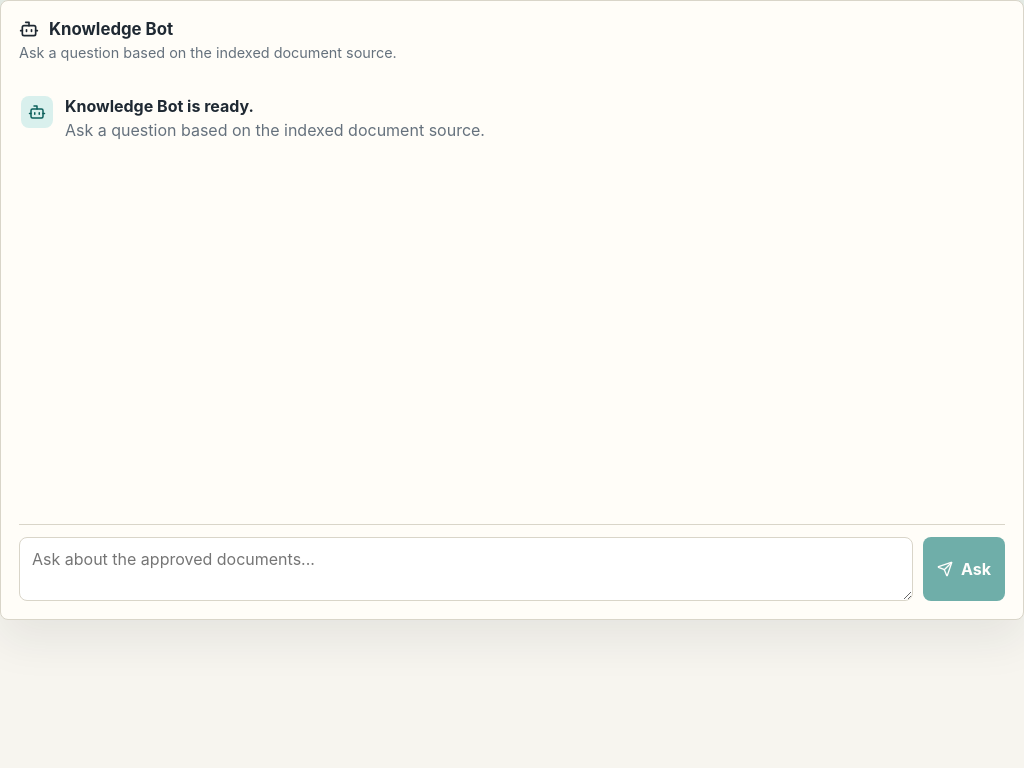
Scenario: Slack-style chat experience › shows the user question, inline processing, bot answer, and thread details
The image size is (1024, 768).
Later steps or results of the test are not shown.
Expected: the heading "Knowledge Bot" is shown, [19,19,173,39]
Type "What is e-invoicing?" into the text box named "Ask a question" at (466,569), box [19,537,913,601]
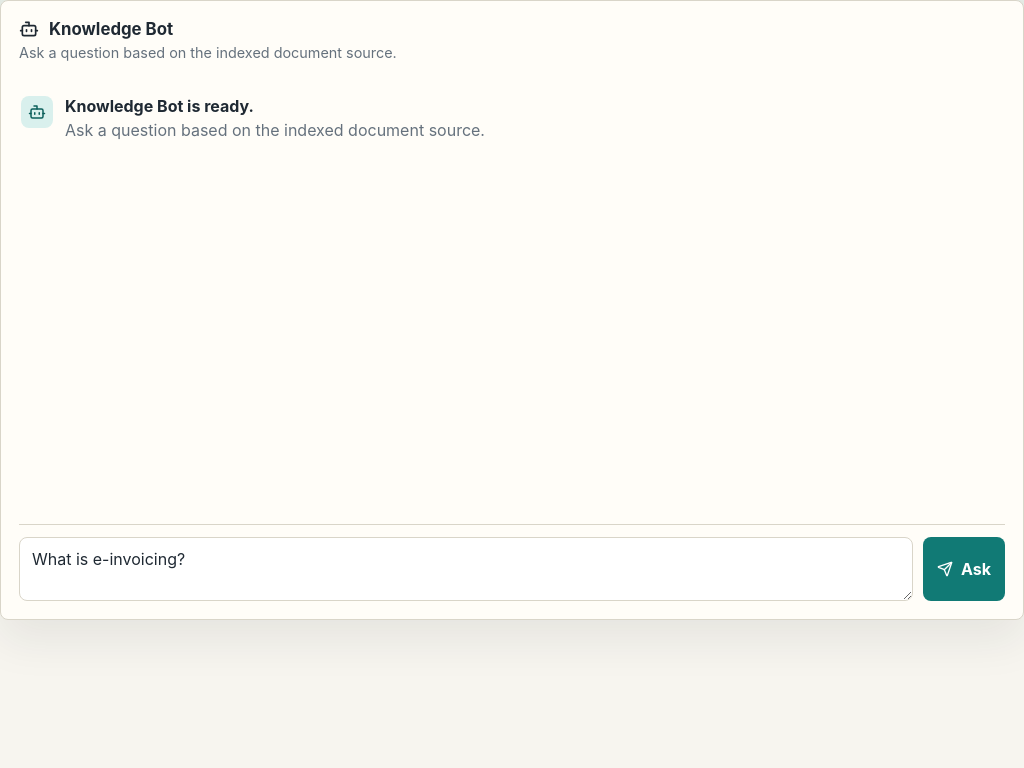
Click the button "Ask" at (964,569), box [923,537,1005,601]
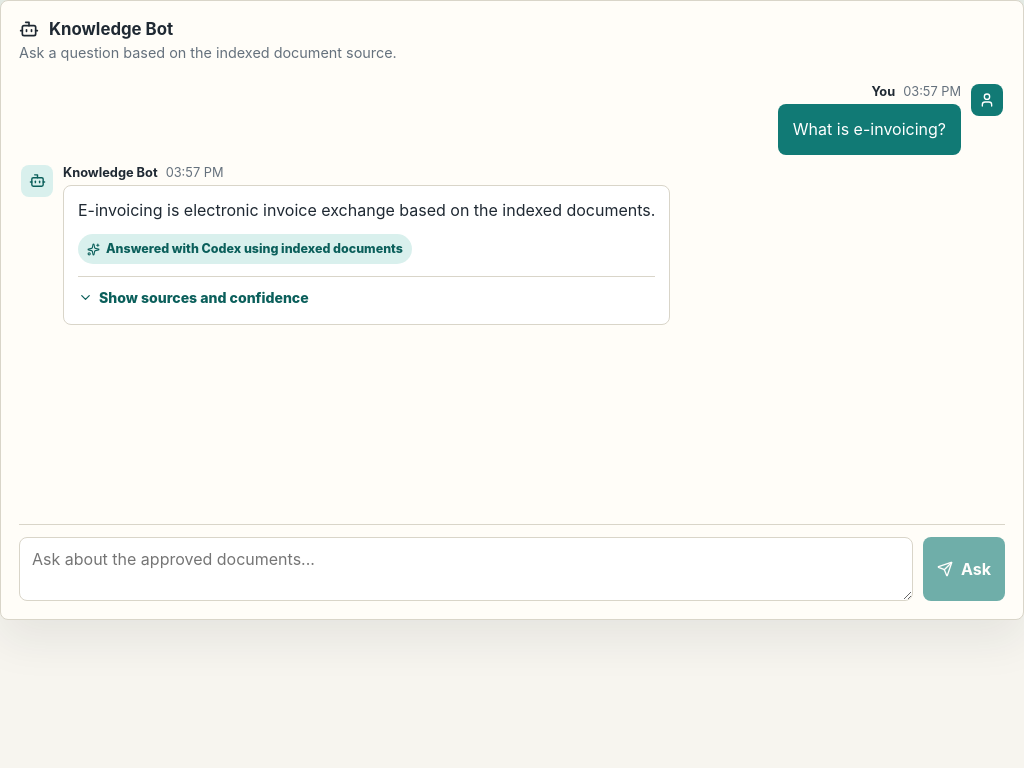
Expected: the text "What is e-invoicing?" is shown, [778,104,961,155]
Expected: the text "E-invoicing is electronic invoice exchange based on the indexed documents." is shown, [78,198,655,222]
Expected: the text "Answered with Codex using indexed documents" is shown, [78,234,412,264]
Click the heading "Show sources and confidence" at (193,298), box [78,287,309,309]
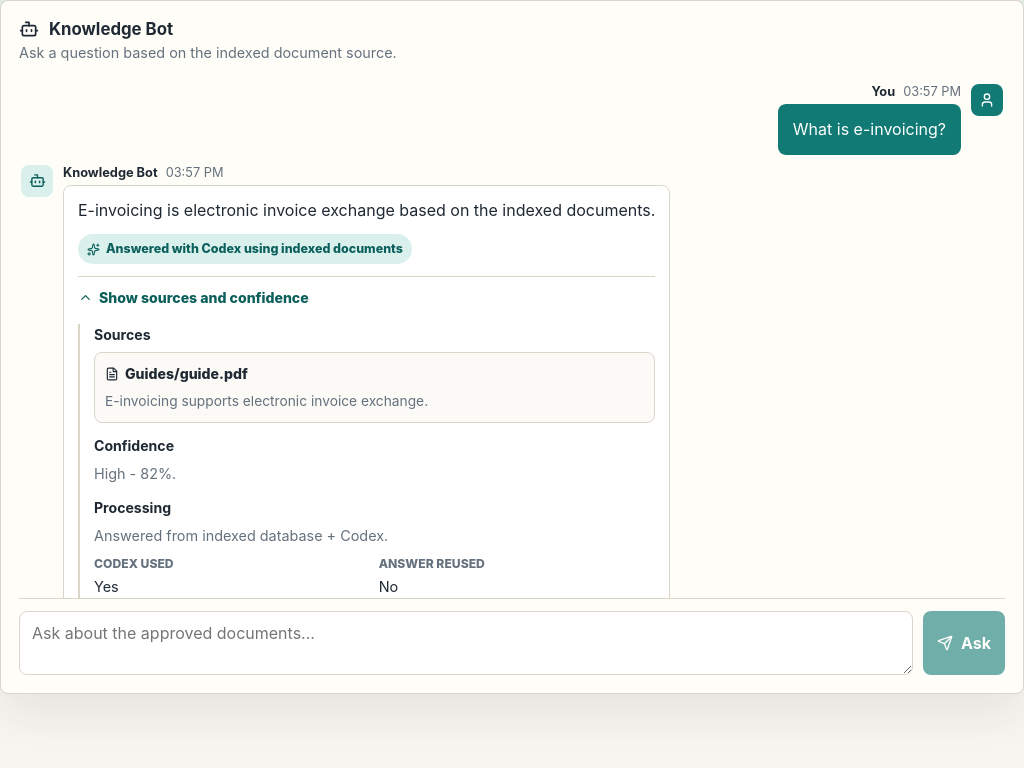
Expected: the text "Guides/guide.pdf" is shown, [105,365,248,382]
Expected: the text "High - 82%." is shown, [94,465,176,482]
Expected: the text "Answered from indexed database + Codex." is shown, [94,527,388,544]
